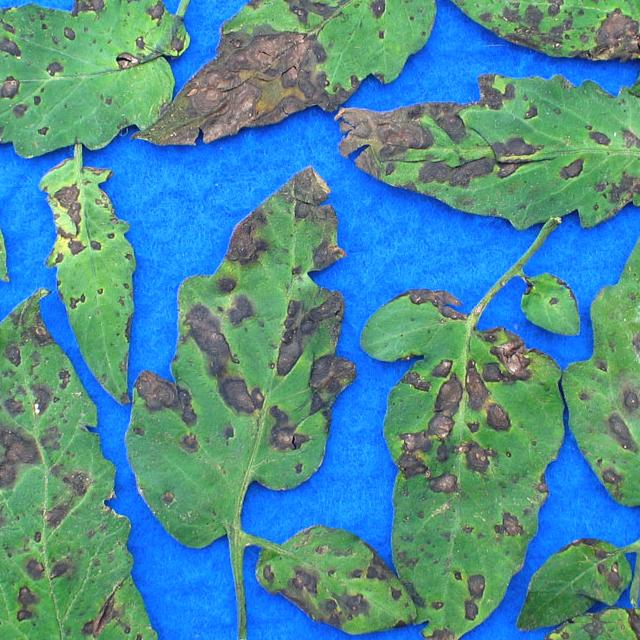Tomato Early blight leaf: (132, 172, 352, 554), (0, 258, 177, 640), (362, 298, 555, 640), (322, 76, 640, 231), (128, 0, 438, 149), (0, 9, 198, 152), (32, 149, 138, 406), (574, 155, 640, 559), (437, 0, 640, 106), (524, 532, 630, 628), (487, 588, 640, 640), (0, 161, 20, 296)
